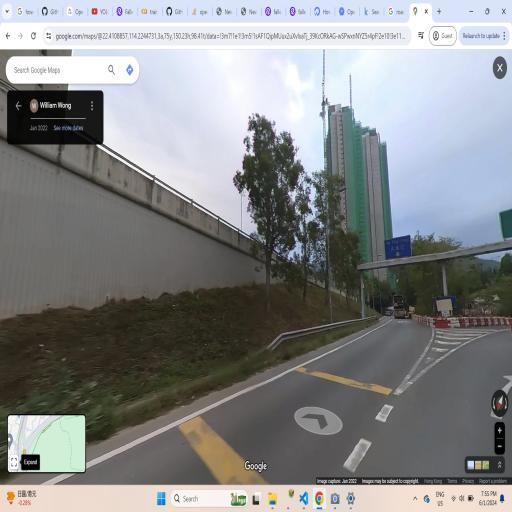Trees: (231, 103, 305, 320), (296, 136, 354, 328), (332, 217, 364, 318)
